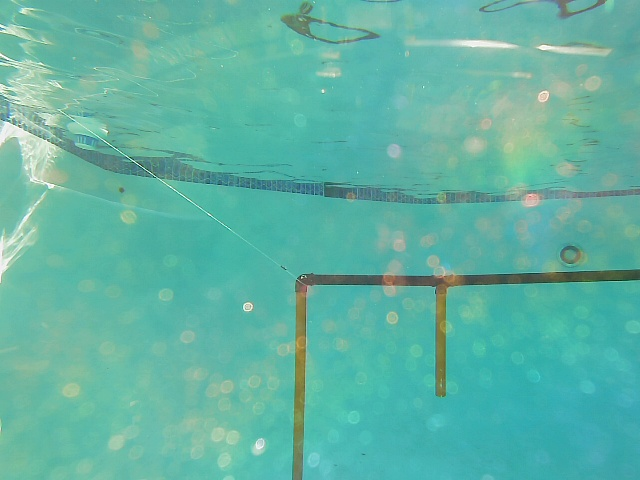Gate: (288, 282, 309, 478), (428, 285, 450, 400)
